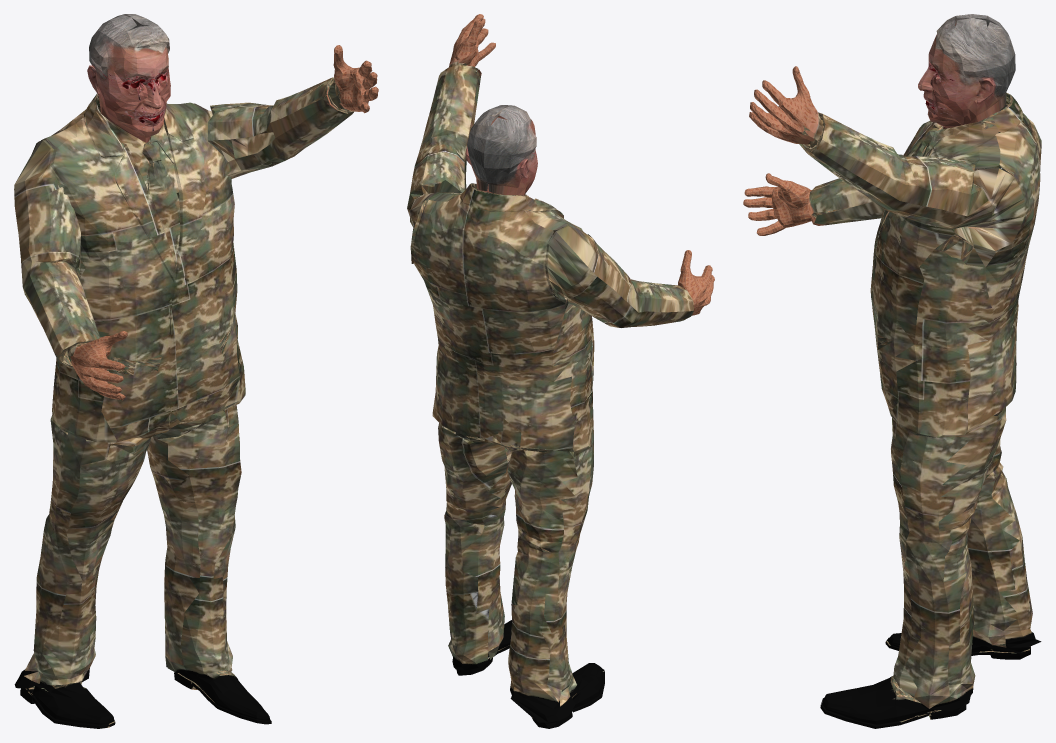
Rendered from zombie_000053.obj.
3 renders of one model, left to right at view 1: azimuth 30°, elevation 25°; view 2: azimuth 150°, elevation 25°; view 3: azimuth 270°, elevation 25°, orthographic. The views are drawn at different scales.
Parts seen in each view (by area): view 1: Suit_coat_orig_9___De, objGeo_Hea_orig_9___D; view 2: Suit_coat_orig_9___De, objGeo_Hea_orig_9___D; view 3: Suit_coat_orig_9___De, objGeo_Hea_orig_9___D.
Boxes of the visible parts, x1,y1,x2,y2 form: Suit_coat_orig_9___De: [14, 45, 378, 728]; objGeo_Hea_orig_9___D: [87, 14, 170, 142]; Suit_coat_orig_9___De: [407, 14, 714, 728]; objGeo_Hea_orig_9___D: [465, 105, 537, 195]; Suit_coat_orig_9___De: [743, 66, 1041, 728]; objGeo_Hea_orig_9___D: [918, 14, 1015, 128].
Bounding box in the file's own units: 0.8674 × 1.91 × 0.7582.
